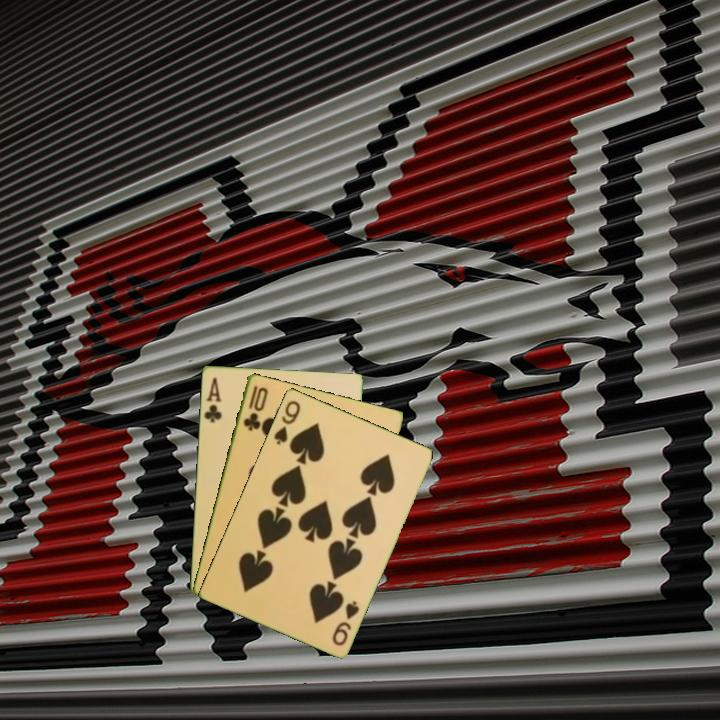10c: (239, 381, 270, 434)
9s: (328, 597, 362, 648), (270, 396, 303, 447)
Ac: (200, 373, 224, 425)
